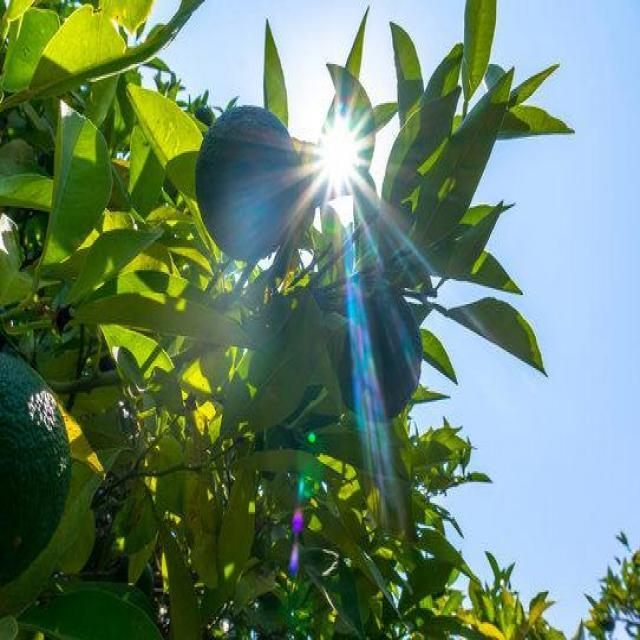Jeruk Belum Matang: (0, 350, 72, 585), (197, 103, 301, 256), (338, 285, 424, 423)
